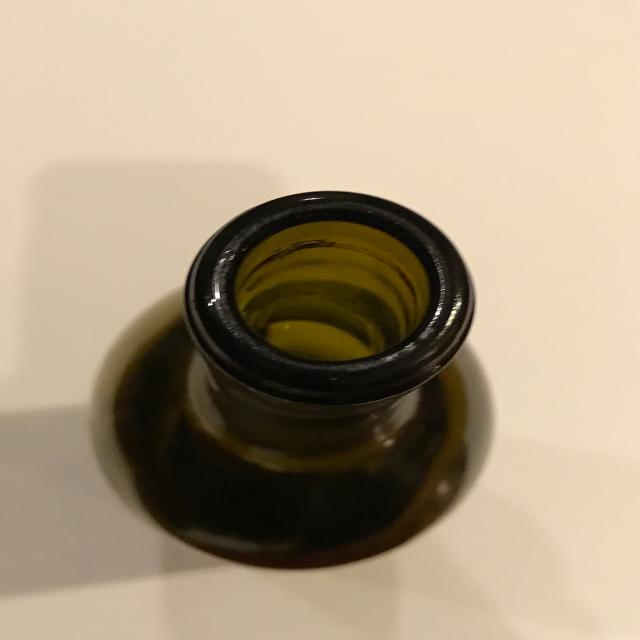glass: (88, 189, 493, 570)
